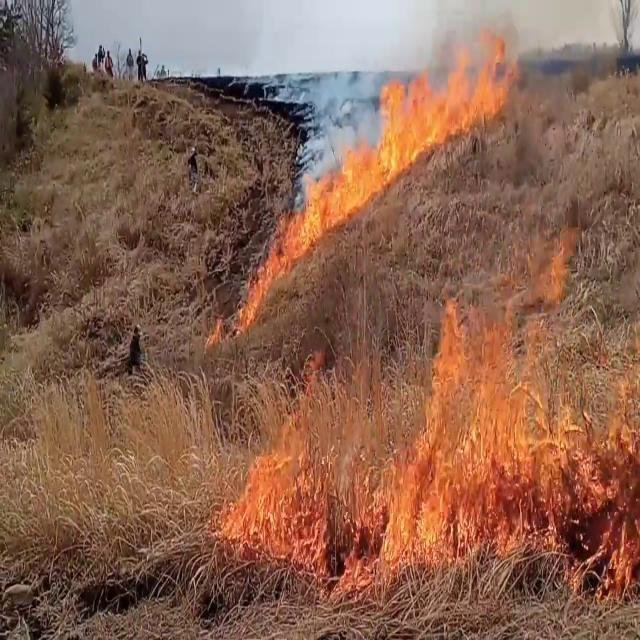Fire: (380, 219, 596, 561), (216, 347, 376, 596), (244, 138, 383, 306), (369, 14, 517, 166)
